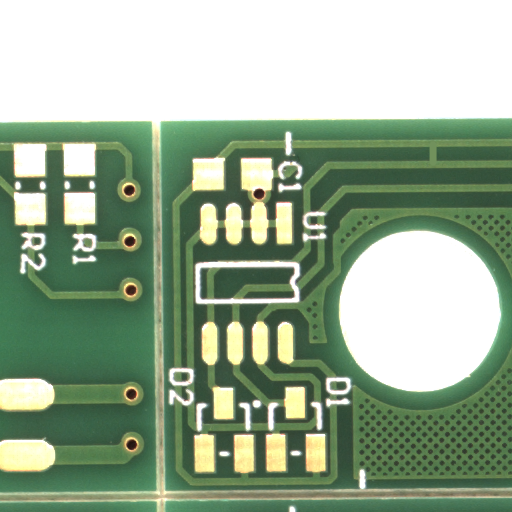Short: (433, 153, 447, 171)
